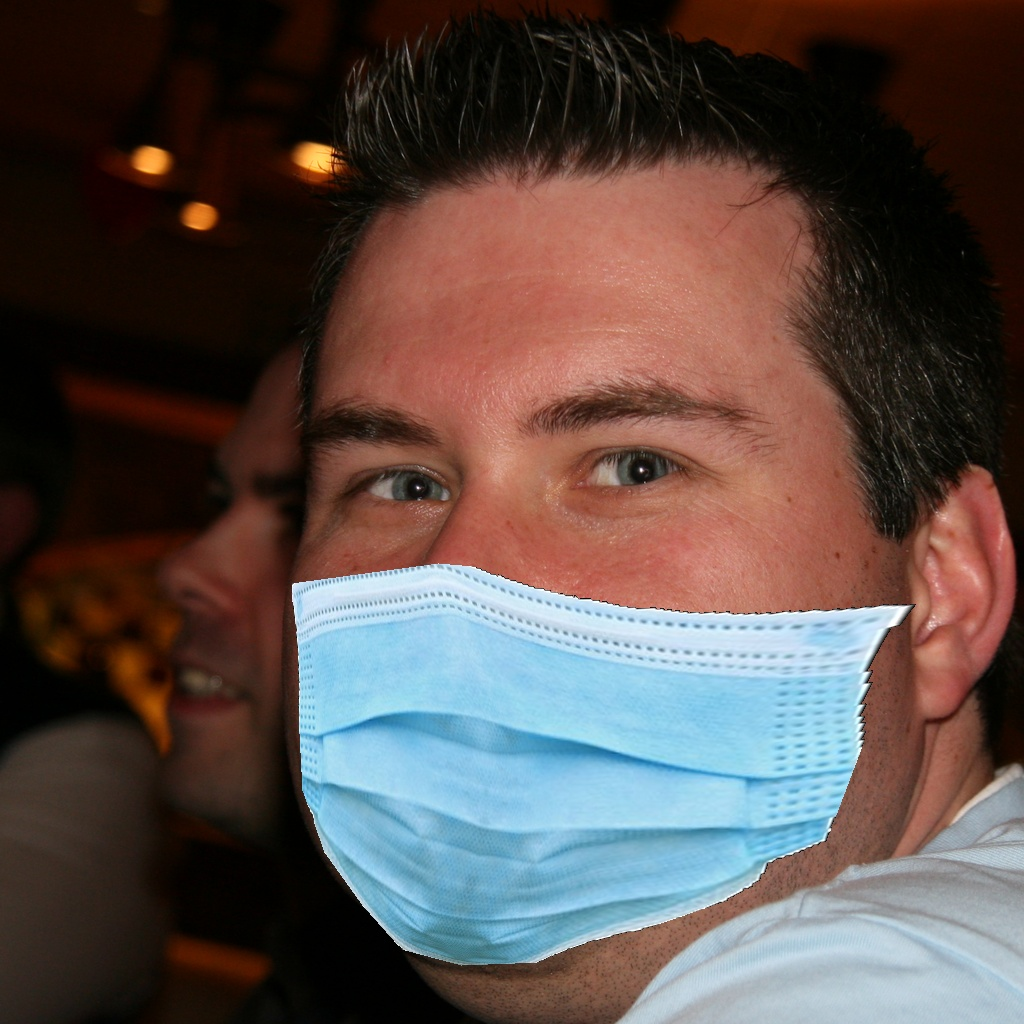Mask: (291, 336, 915, 1023)
